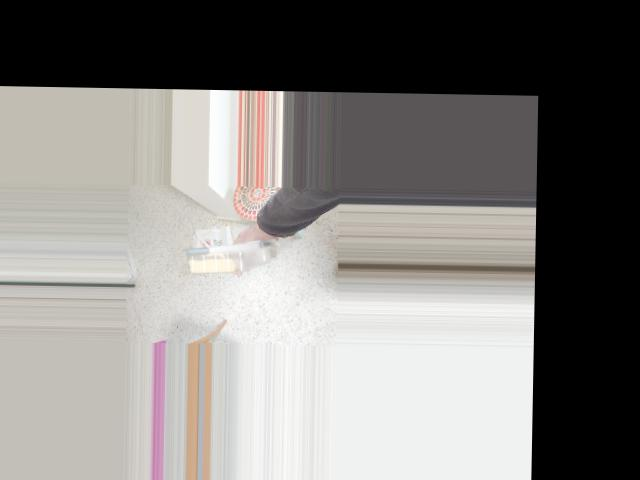cheese: (183, 190, 259, 299)
